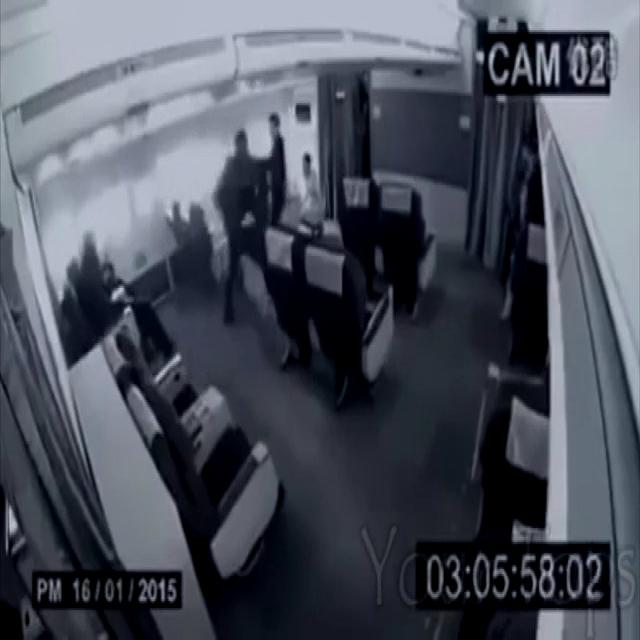fight: (190, 121, 312, 307)
